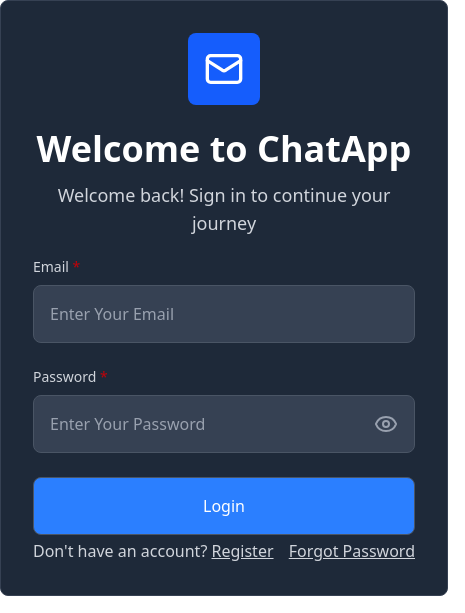
Scenario: should show invalid email validation
Type "abc" into the field with placeholder "Enter Your Email" at (224, 314), box [33,285,415,343]
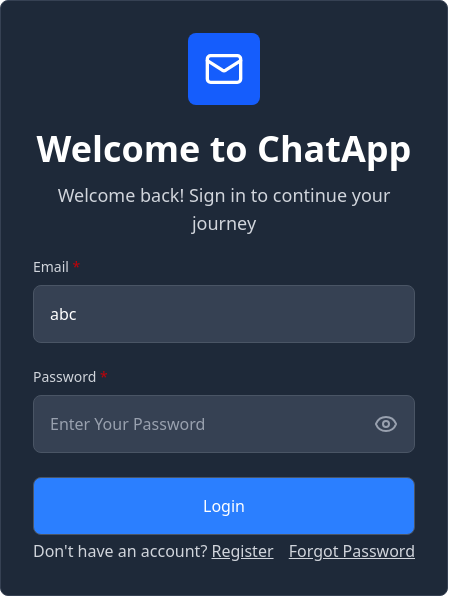
Type "123456" into the password field with placeholder "Enter Your Password" at (212, 424), box [50,412,374,436]
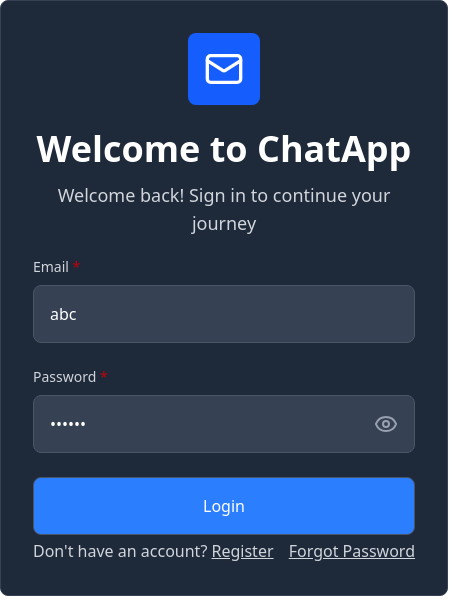
Click the button "Login" at (224, 506), box [33,477,415,535]
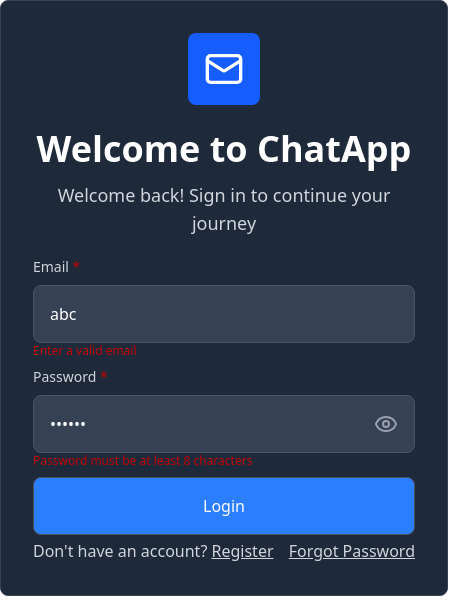
Check: the text "Enter a valid email" is shown, box [33,343,137,359]
